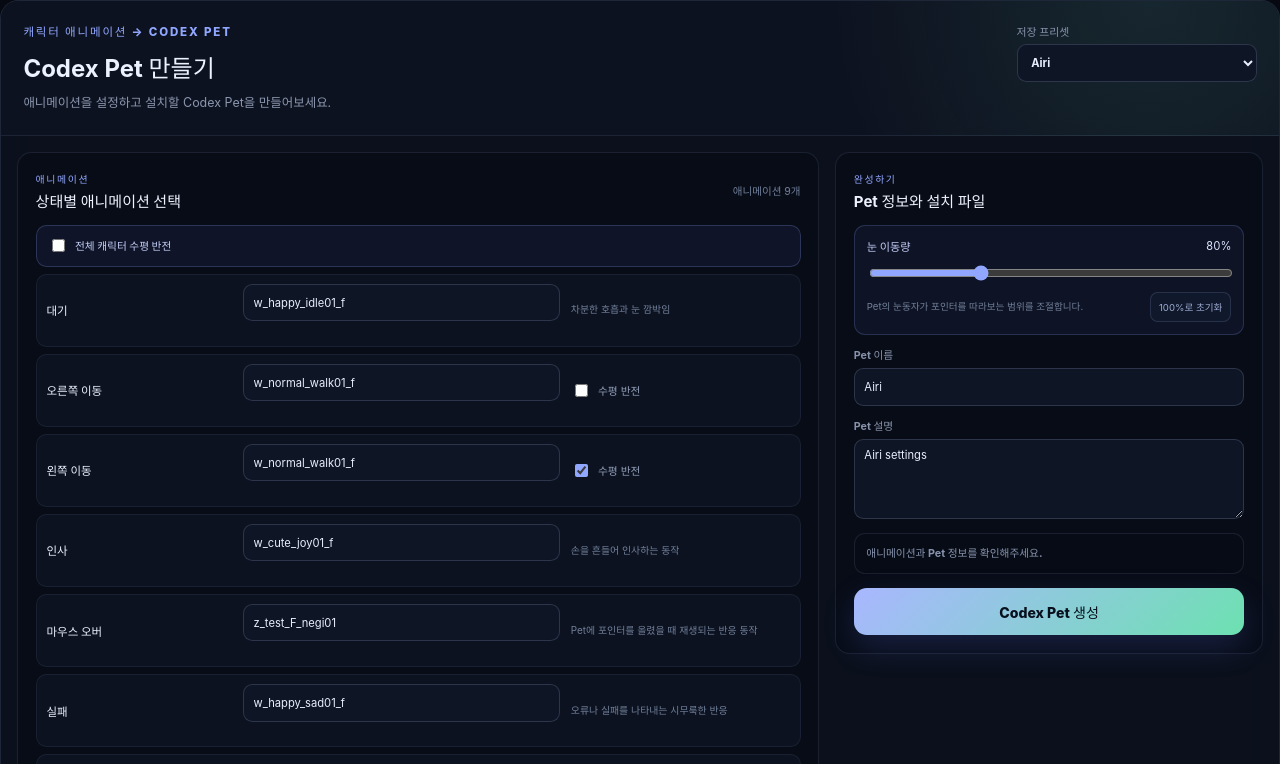
CodexPetBuilder › preset dropdown으로 설정을 전환하고 새 세션에서 catalog를 보존한 채 reset한다
The width and height of the screenshot is (1280, 764).
Select "Miku" in the dropdown labelled "저장 프리셋" at x=1137, y=63, box [1017, 44, 1257, 82]
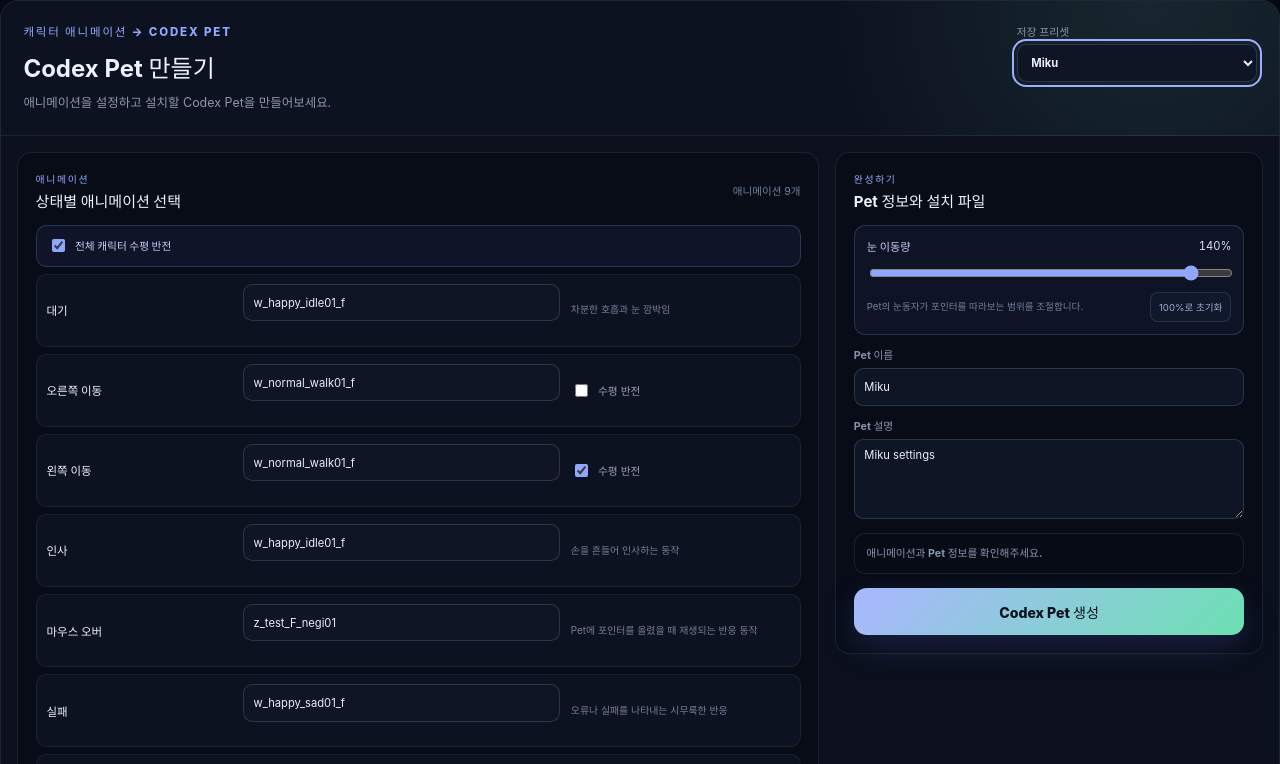
Expected: the field labelled "Pet 이름" holds "Miku", [854, 368, 1244, 406]
Expected: the dropdown named "인사 애니메이션" next to "손을 흔들어 인사하는 동작" holds "w_happy_idle01_f"
Type "normal" into the dropdown named "인사 애니메이션" next to "손을 흔들어 인사하는 동작" at x=402, y=543, box [243, 524, 560, 561]
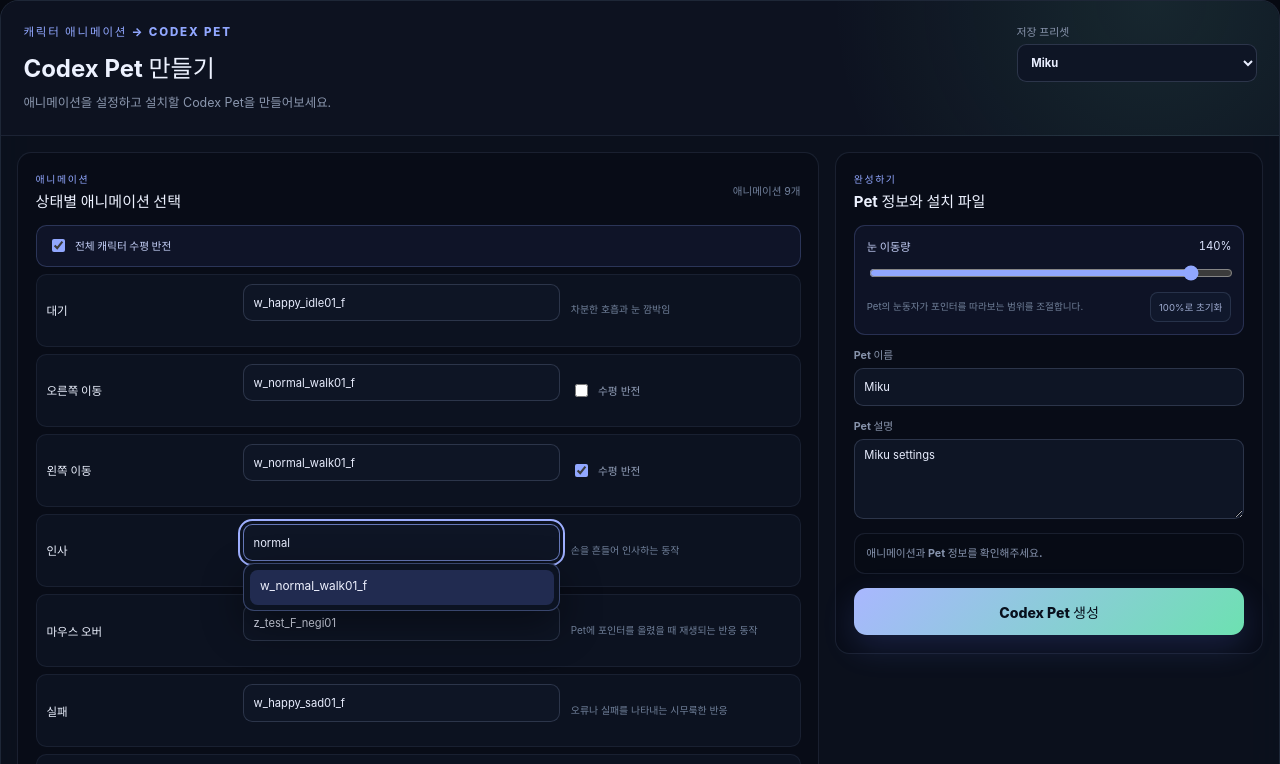
Select "새 세션" in the dropdown labelled "저장 프리셋" at x=1137, y=63, box [1017, 44, 1257, 82]
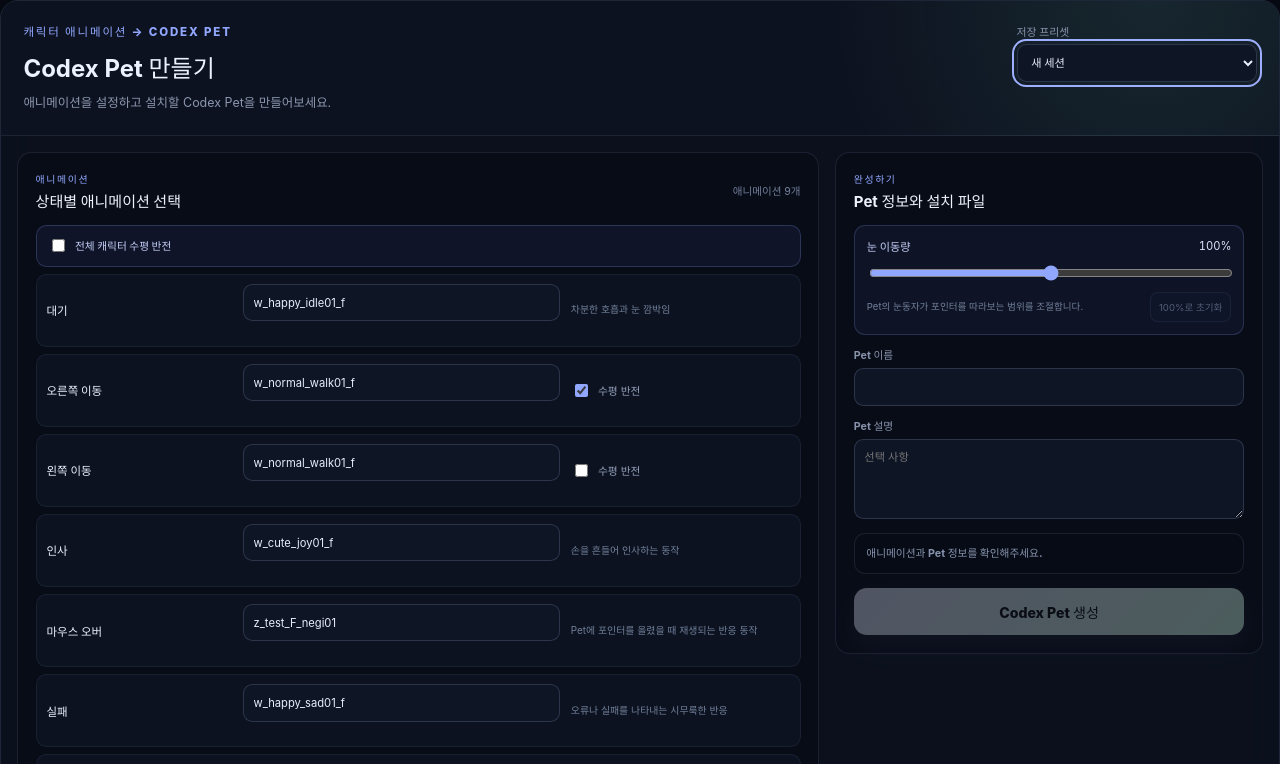
Expected: the field labelled "Pet 이름" is empty, [854, 368, 1244, 406]
Expected: the text box labelled "Pet 설명" is empty, [854, 439, 1244, 519]
Expected: the slider named "눈 이동량 슬라이더" holds "100", [869, 265, 1233, 281]
